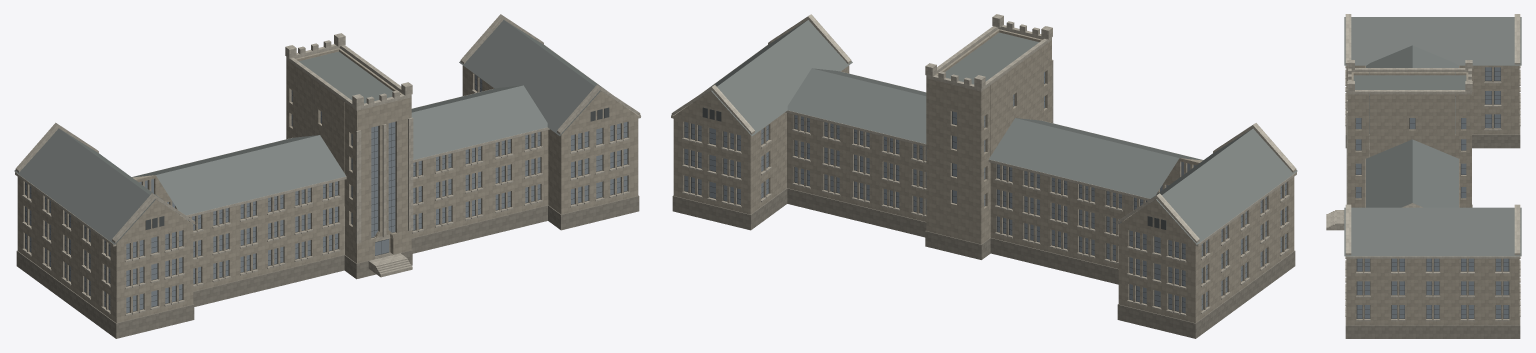
3 views of the same model, side by side, from view 1: azimuth 30°, elevation 25°; view 2: azimuth 150°, elevation 25°; view 3: azimuth 270°, elevation 25° (orthographic). The views are drawn at different scales.
Visible parts, largest first — view 1: myungjin__granite_ashlar, myungjin__roof_slate, myungjin__granite_trim, myungjin__glass_window, myungjin__granite_base, myungjin__frame_dark; view 2: myungjin__granite_ashlar, myungjin__roof_slate, myungjin__granite_base, myungjin__glass_window, myungjin__granite_trim, myungjin__frame_dark; view 3: myungjin__roof_slate, myungjin__granite_ashlar, myungjin__granite_trim, myungjin__glass_window, myungjin__granite_base, myungjin__frame_dark.
Part boxes in pixels (left/top/right/bottom): myungjin__granite_ashlar: left=17, top=20, right=638, bottom=322; myungjin__roof_slate: left=14, top=20, right=606, bottom=244; myungjin__granite_trim: left=15, top=14, right=640, bottom=316; myungjin__glass_window: left=25, top=75, right=627, bottom=312; myungjin__granite_base: left=16, top=195, right=639, bottom=338; myungjin__frame_dark: left=25, top=75, right=627, bottom=313; myungjin__granite_ashlar: left=673, top=20, right=1294, bottom=322; myungjin__roof_slate: left=704, top=20, right=1297, bottom=244; myungjin__granite_base: left=672, top=188, right=1295, bottom=338; myungjin__glass_window: left=684, top=72, right=1286, bottom=312; myungjin__granite_trim: left=671, top=14, right=1296, bottom=316; myungjin__frame_dark: left=684, top=72, right=1286, bottom=313; myungjin__roof_slate: left=1344, top=17, right=1521, bottom=256; myungjin__granite_ashlar: left=1346, top=65, right=1519, bottom=325; myungjin__granite_trim: left=1326, top=14, right=1520, bottom=321; myungjin__glass_window: left=1356, top=67, right=1508, bottom=318; myungjin__granite_base: left=1345, top=109, right=1520, bottom=338; myungjin__frame_dark: left=1355, top=67, right=1509, bottom=318.
Bounding box in the file's own units: 86.3 × 28.2 × 31.5.
7 materials, 3 textured.
